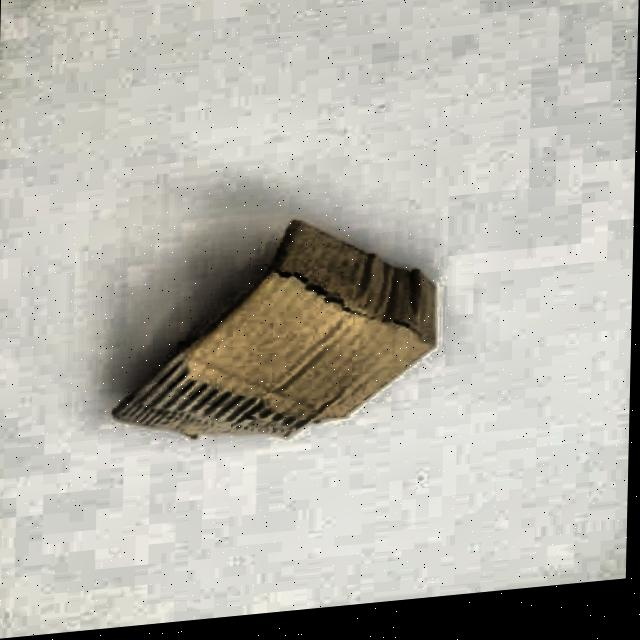cardboard: (108, 206, 438, 458)
